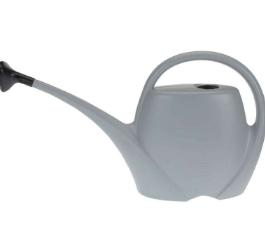ARROSOIR: (0, 46, 265, 217)
